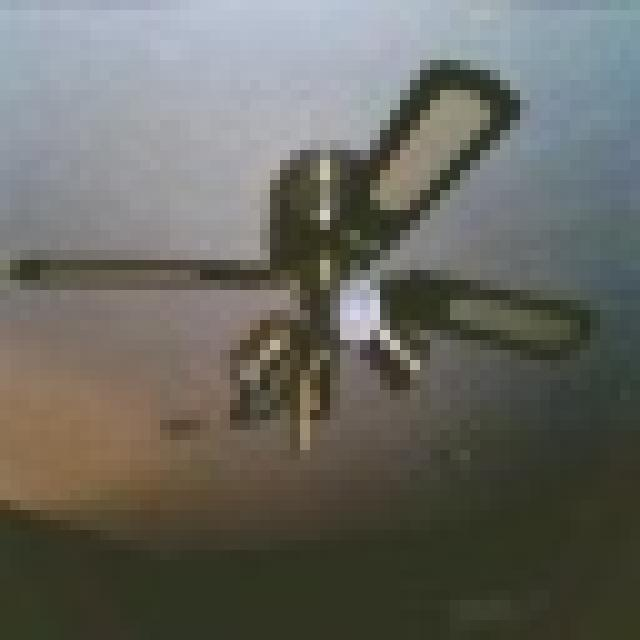Bulb: (30, 102, 602, 368)
